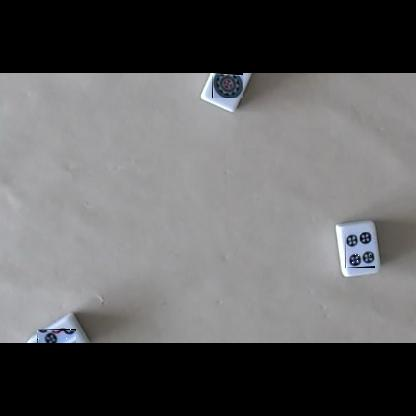1p: (212, 73, 243, 98)
4p: (345, 232, 375, 268)
5p: (37, 329, 76, 343)
